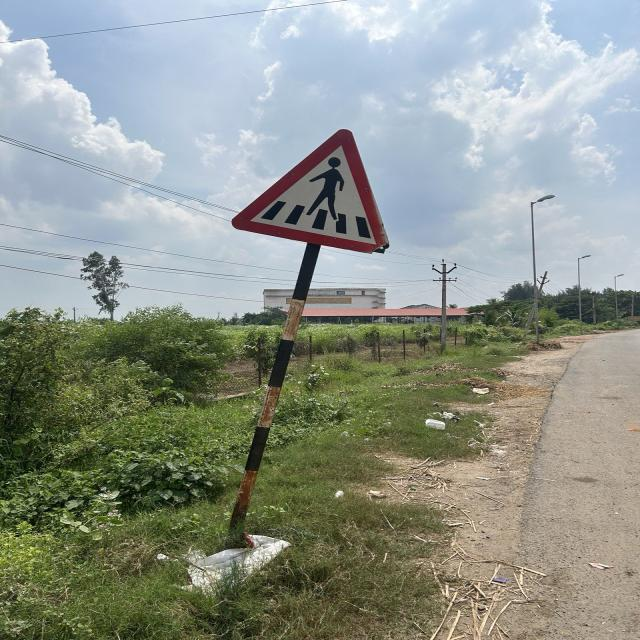Pedestrain_crossing: (228, 126, 394, 263)
